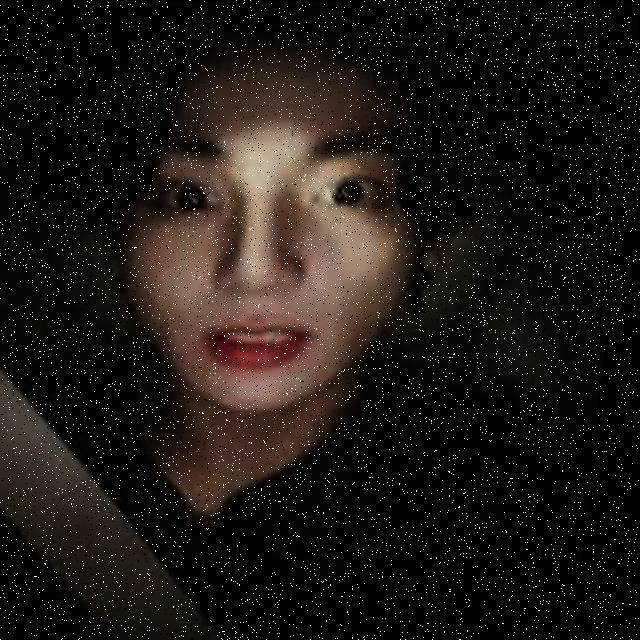seatbelt: (0, 324, 516, 640)
